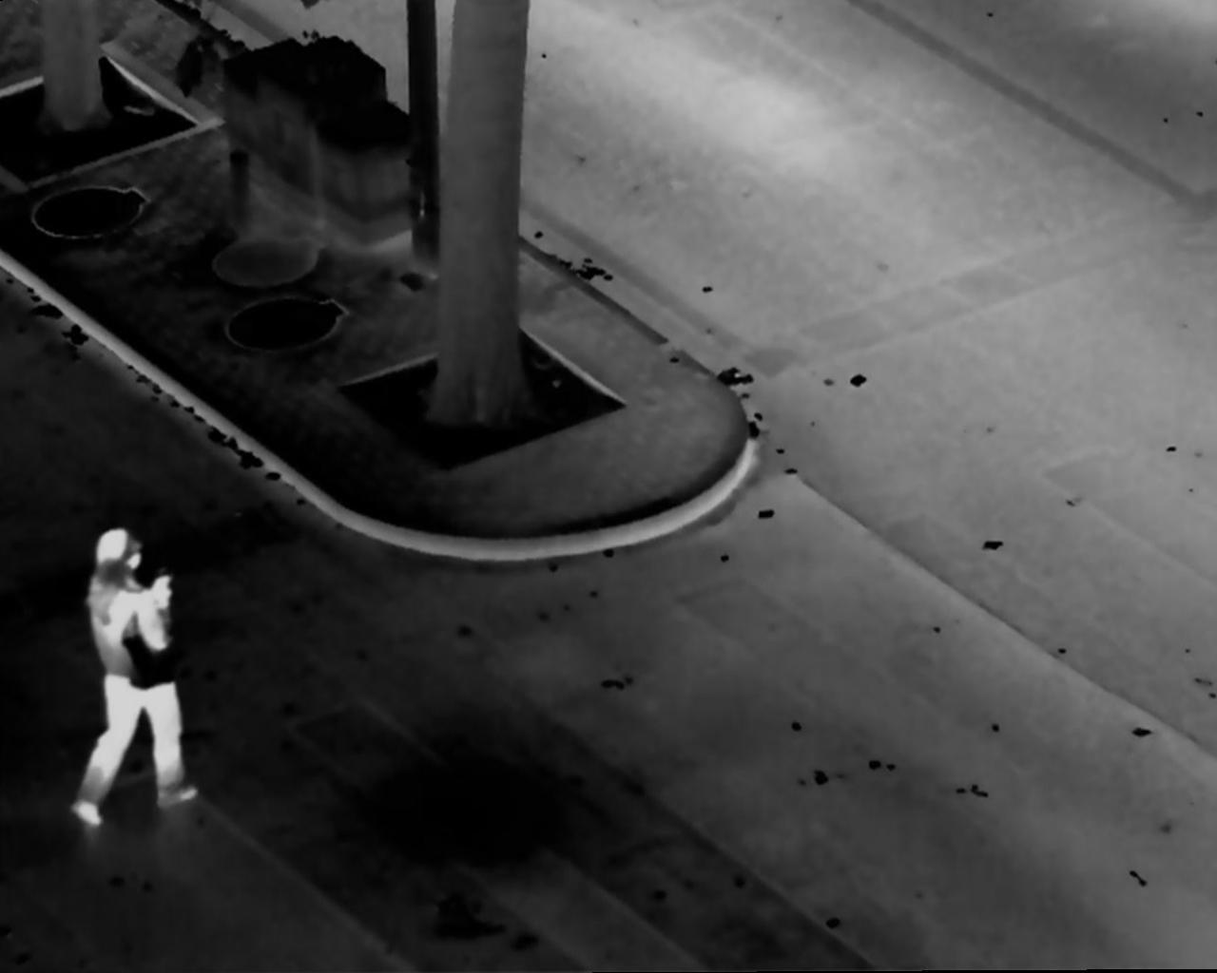person: (65, 530, 211, 827)
